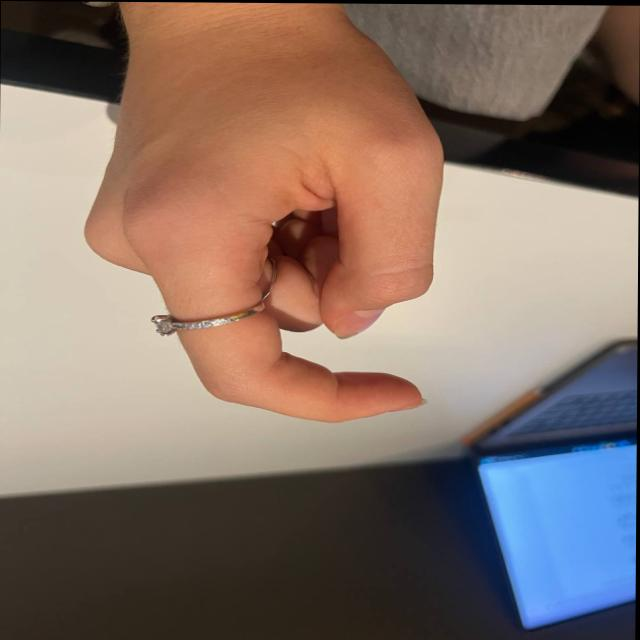kh: (75, 50, 520, 442)
